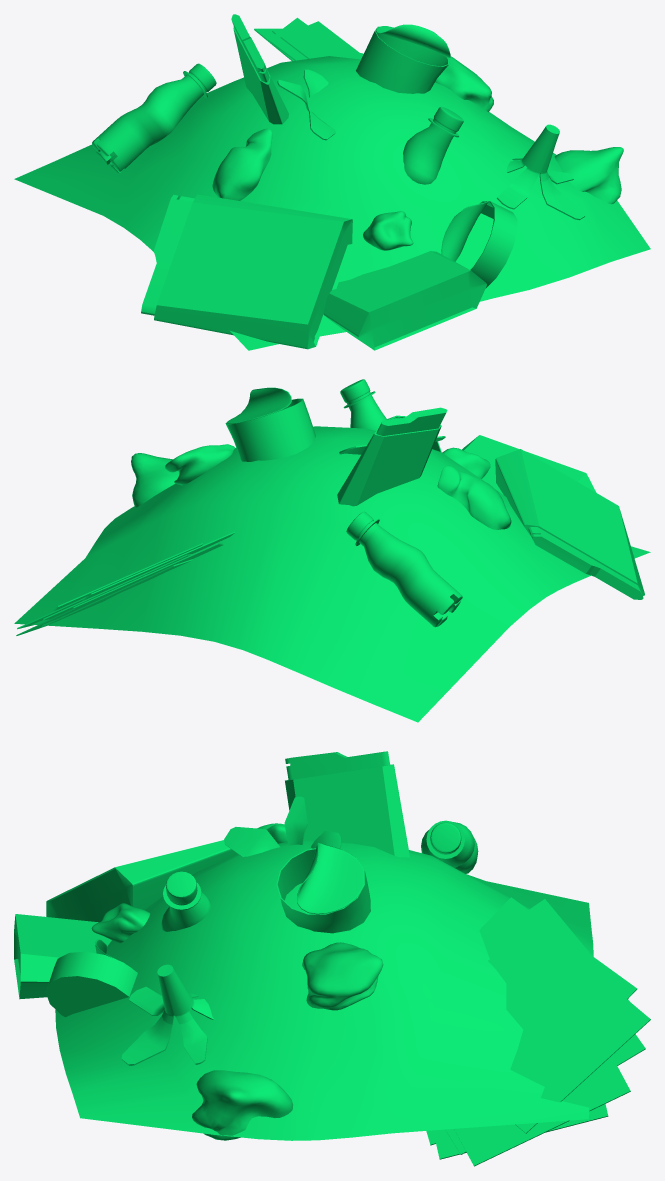
The model's file is SM_TrashPile1.fbx.
3 views of the same model, one above another, from view 1: azimuth 30°, elevation 25°; view 2: azimuth 150°, elevation 25°; view 3: azimuth 270°, elevation 25° (orthographic). The views are drawn at different scales.
Parts seen in each view (by area): view 1: SM_TrashPile1; view 2: SM_TrashPile1; view 3: SM_TrashPile1.
Part boxes in pixels (left/top/right/bottom): SM_TrashPile1: left=14, top=14, right=650, bottom=350; SM_TrashPile1: left=14, top=379, right=650, bottom=722; SM_TrashPile1: left=14, top=751, right=650, bottom=1166.
Bounding box in the file's own units: 116 × 53.22 × 117.
